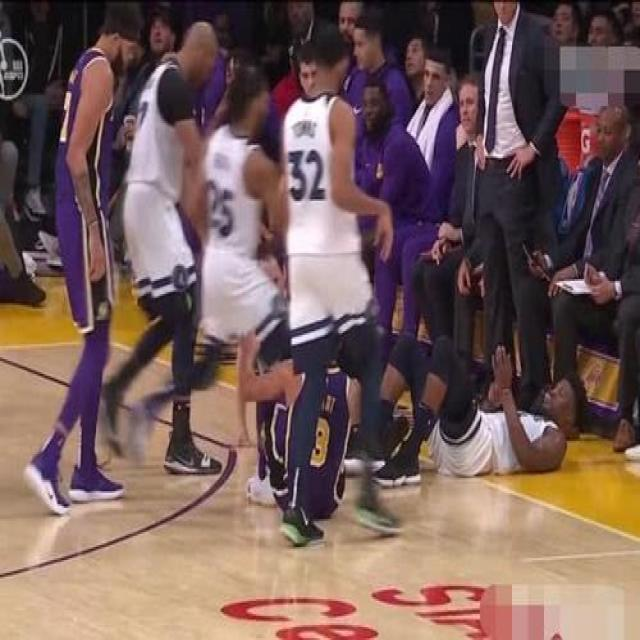10-: (0, 0, 639, 551)
down: (349, 324, 598, 476), (221, 318, 383, 517)
